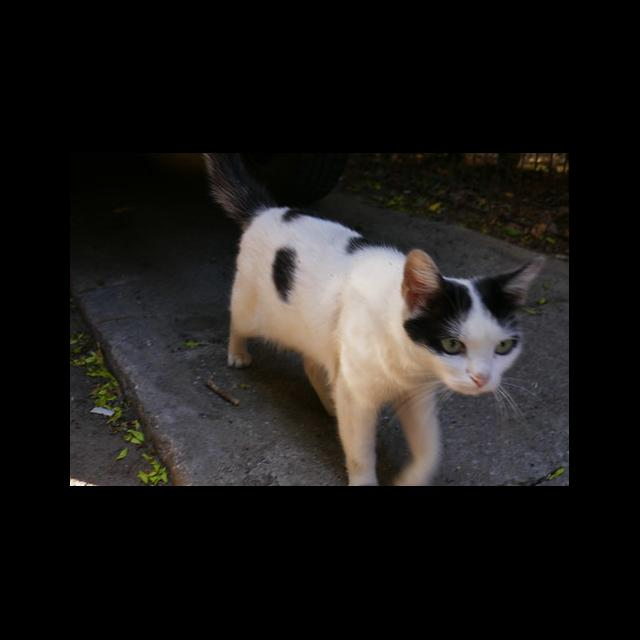animals: (201, 154, 543, 486)
